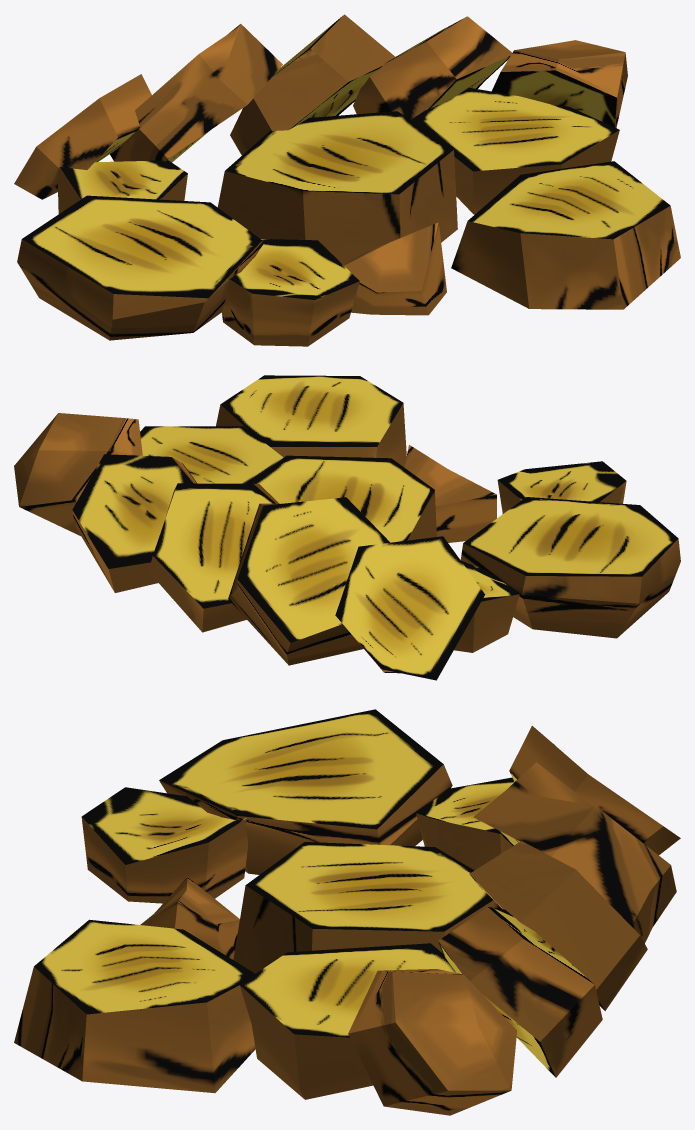
The model's file is Chopped_Ginger.fbx.
3 views of the same model, one above another, from view 1: azimuth 30°, elevation 25°; view 2: azimuth 150°, elevation 25°; view 3: azimuth 270°, elevation 25° (orthographic). The views are drawn at different scales.
Visible parts, largest first — view 1: Chopped Ginger, Cylinder.009, Cylinder.007, Cylinder.010, Cylinder.012, Cylinder.006, Cylinder.005, Cylinder.004, Cylinder.003, Cylinder.014, Cylinder.011, Cylinder.013; view 2: Cylinder.009, Cylinder.006, Cylinder.011, Cylinder.007, Cylinder.005, Cylinder.004, Chopped Ginger, Cylinder.003, Cylinder.010, Cylinder.014, Cylinder.012, Cylinder.013; view 3: Cylinder.007, Cylinder.009, Chopped Ginger, Cylinder.003, Cylinder.010, Cylinder.012, Cylinder.004, Cylinder.006, Cylinder.005, Cylinder.013, Cylinder.011, Cylinder.014.
Part boxes in pixels (x1,y1,x2,y2): Chopped Ginger: (217,111,457,264); Cylinder.009: (17,195,263,340); Cylinder.007: (451,161,680,309); Cylinder.010: (411,87,619,214); Cylinder.012: (221,239,359,346); Cylinder.006: (110,24,282,162); Cylinder.005: (230,14,395,155); Cylinder.004: (353,16,511,119); Cylinder.003: (491,40,627,127); Cylinder.014: (343,222,446,315); Cylinder.011: (14,74,151,199); Cylinder.013: (57,160,187,213); Cylinder.009: (460,497,680,638); Cylinder.006: (228,497,389,665); Cylinder.011: (335,536,485,680); Cylinder.007: (216,375,406,467); Cylinder.005: (148,483,278,632); Cylinder.004: (72,454,197,592); Chopped Ginger: (251,455,436,542); Cylinder.003: (14,413,142,535); Cylinder.010: (140,426,283,483); Cylinder.014: (404,445,496,542); Cylinder.012: (497,461,626,513); Cylinder.013: (454,560,519,652); Cylinder.007: (14,919,255,1093); Cylinder.009: (159,709,452,874); Chopped Ginger: (233,842,501,973); Cylinder.003: (348,969,516,1115); Cylinder.010: (239,943,456,1099); Cylinder.012: (81,787,248,903); Cylinder.004: (438,907,602,1077); Cylinder.006: (473,762,676,943); Cylinder.005: (469,841,647,1010); Cylinder.013: (416,777,514,870); Cylinder.011: (509,726,680,854); Cylinder.014: (140,877,239,959).
Bounding box in the file's own units: 96.89 × 74.96 × 22.34.
1 material, 1 textured.
